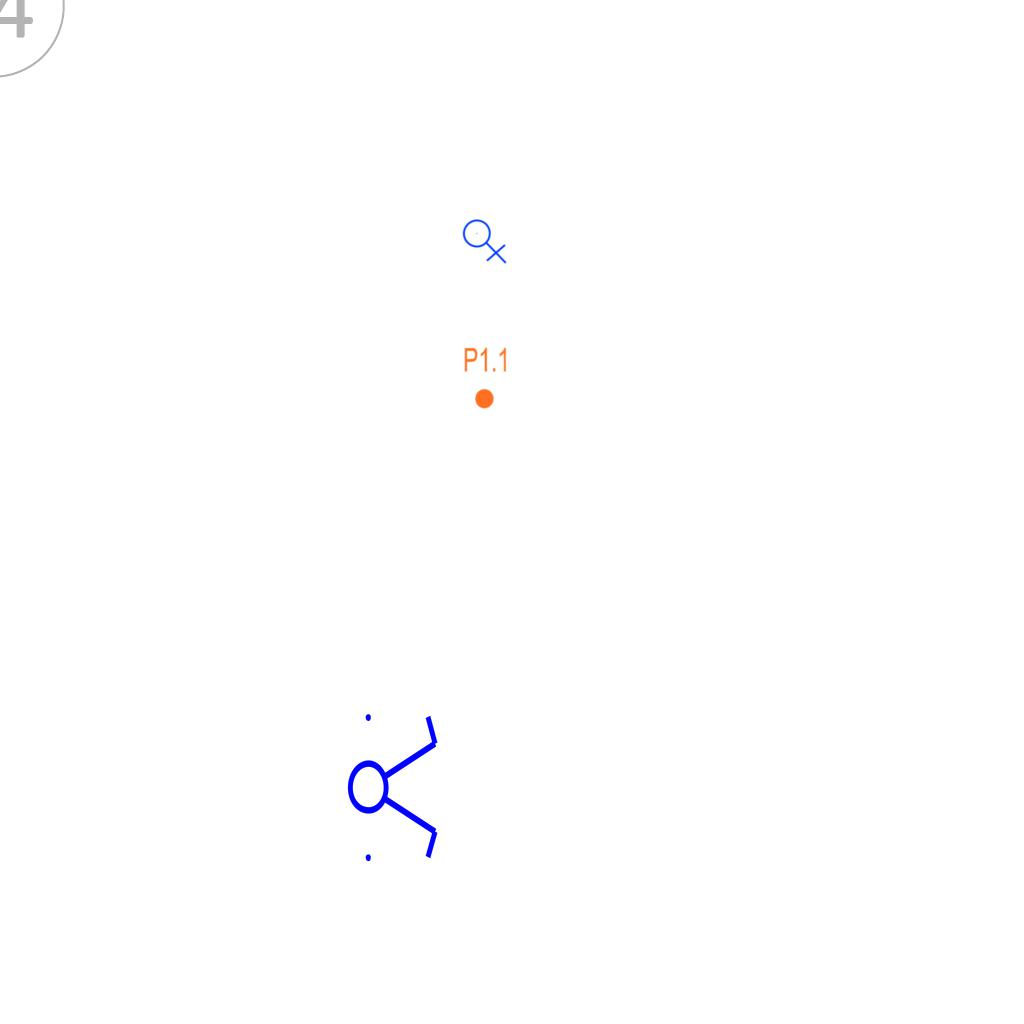Downlight_LED_Einbauleuchten_Flur: (463, 346, 509, 410)
Elektroanschluss_allgemein_230V_Geraeteanschlussdose_230V: (462, 215, 509, 264)
Serienschalter: (346, 702, 442, 870)
